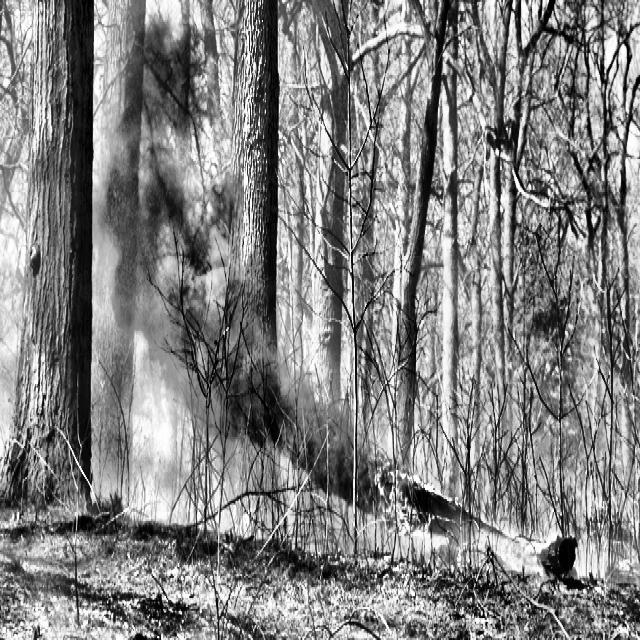fire: (243, 252, 620, 640)
